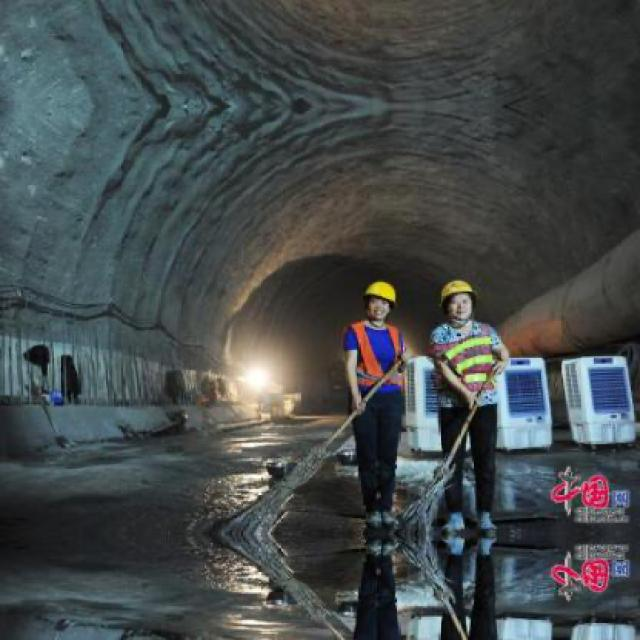Reflective-Jacket: (428, 319, 509, 407), (338, 318, 411, 401)
Safety-Helmet: (431, 273, 486, 313), (354, 275, 406, 313)
